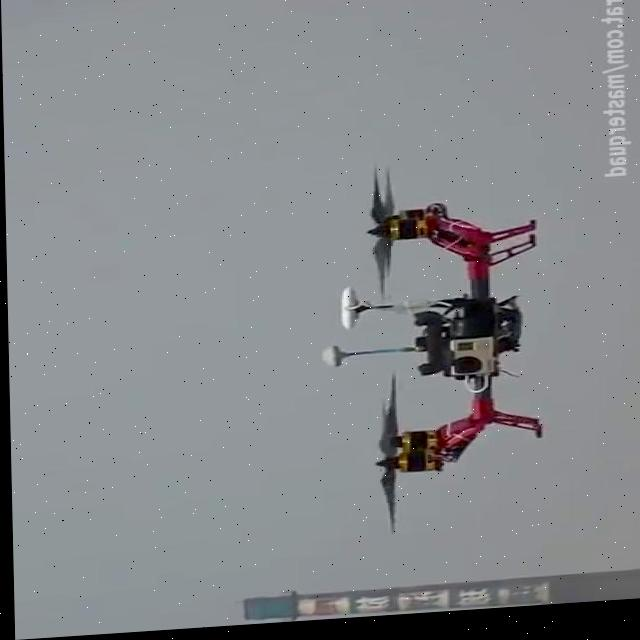drone: (306, 160, 543, 546)
